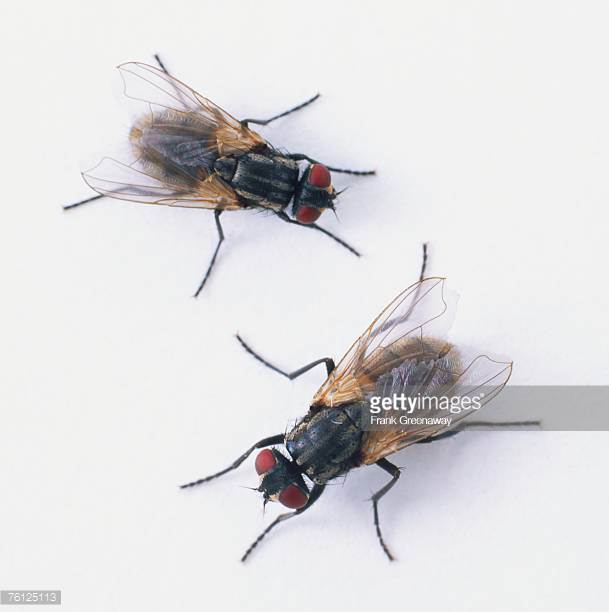house fly: (174, 241, 550, 569), (56, 54, 378, 303)
